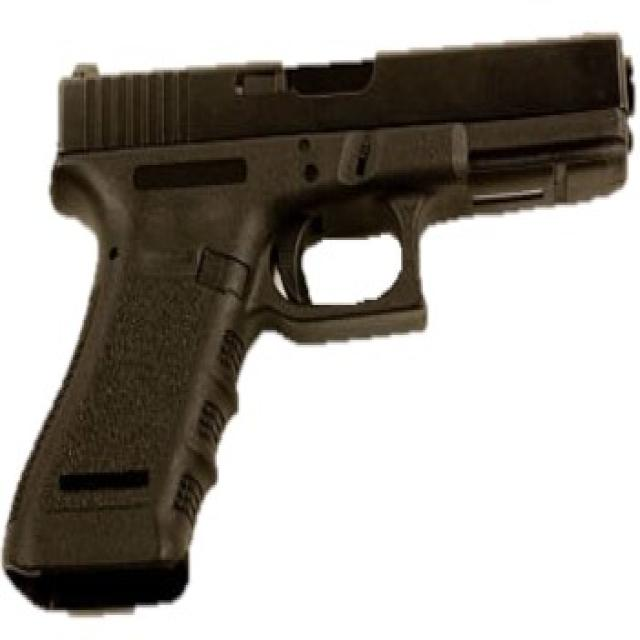pistol: (1, 24, 640, 630)
